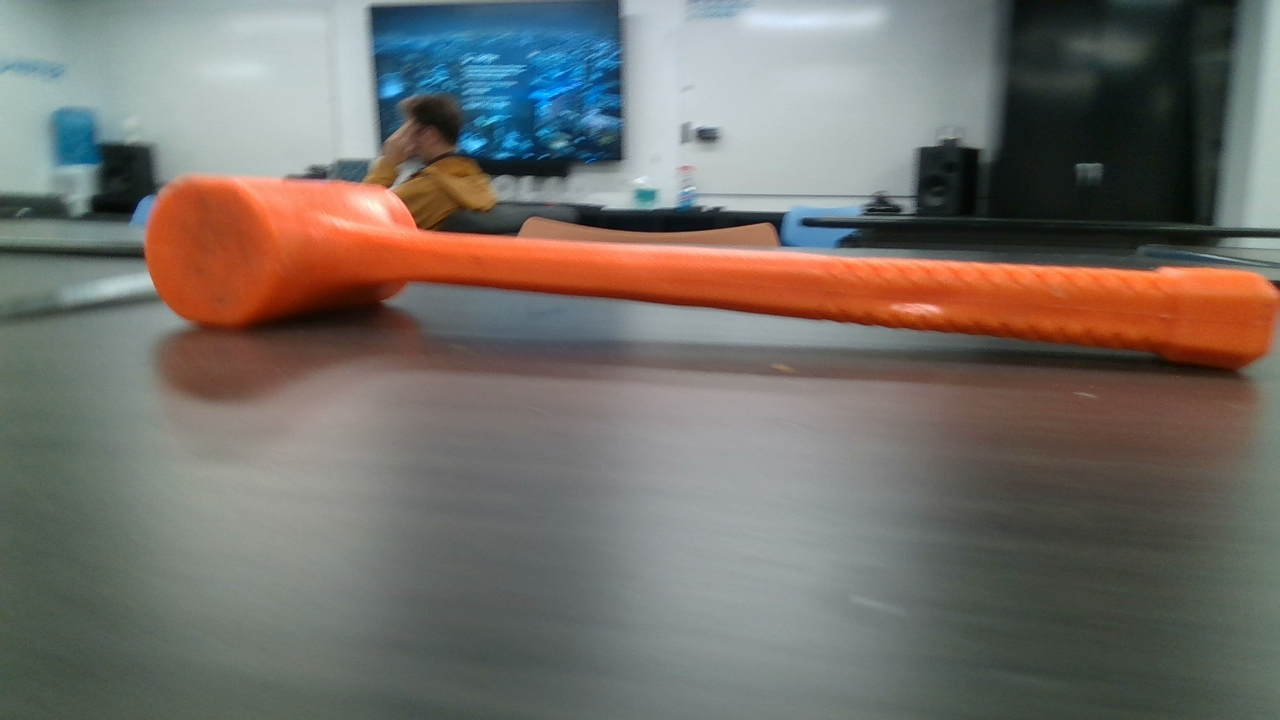Orange Hammer: (148, 175, 1280, 371)
